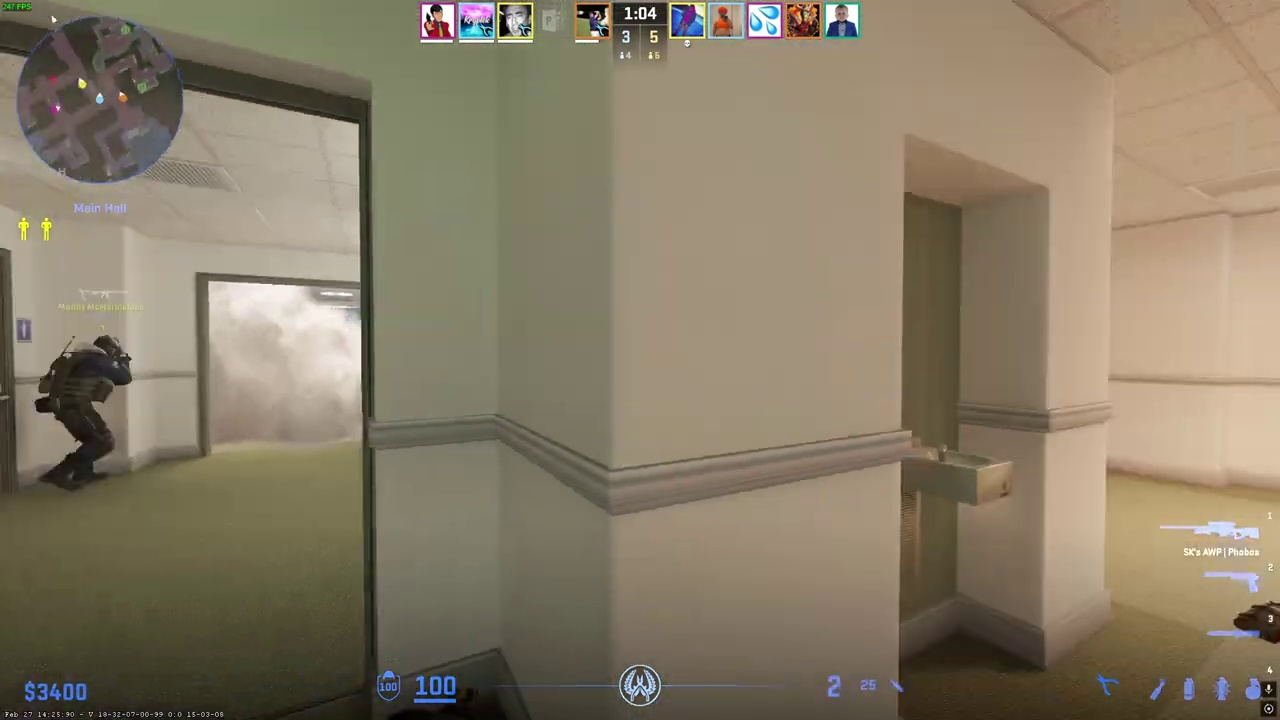CT: (40, 334, 131, 490)
